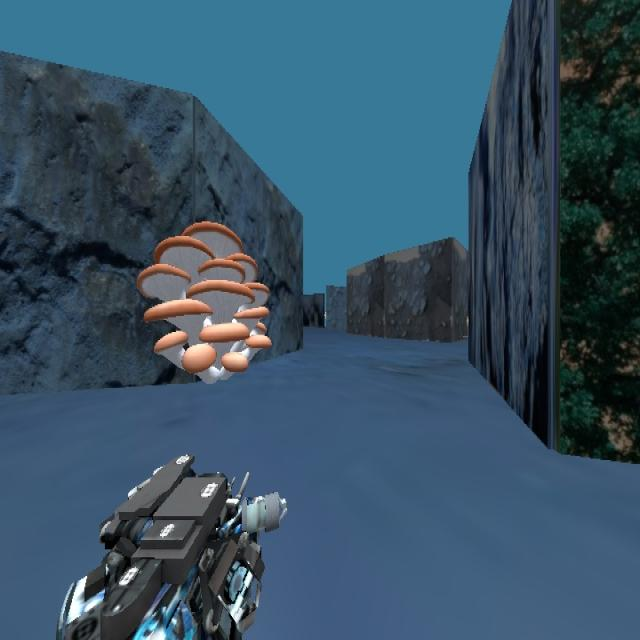Mushroom: (136, 219, 272, 381)
